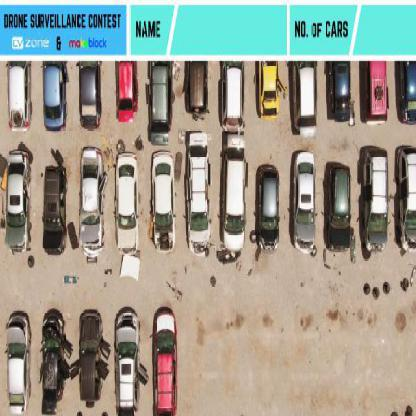car: (219, 141, 246, 257), (360, 148, 389, 254), (79, 147, 106, 260), (152, 307, 179, 415), (115, 307, 141, 415), (187, 132, 210, 253), (6, 149, 32, 254), (39, 309, 65, 414), (114, 150, 138, 258), (5, 311, 30, 413), (327, 163, 353, 258), (292, 152, 316, 254), (41, 163, 67, 257), (152, 152, 174, 253), (146, 62, 173, 141), (79, 311, 101, 403), (258, 164, 280, 255), (397, 146, 415, 257), (6, 62, 32, 131), (40, 62, 65, 132), (361, 62, 388, 126), (326, 62, 352, 124), (296, 61, 317, 137), (113, 62, 137, 124), (79, 62, 101, 128), (224, 63, 244, 134), (184, 62, 208, 115), (257, 62, 278, 120), (400, 62, 415, 127)
